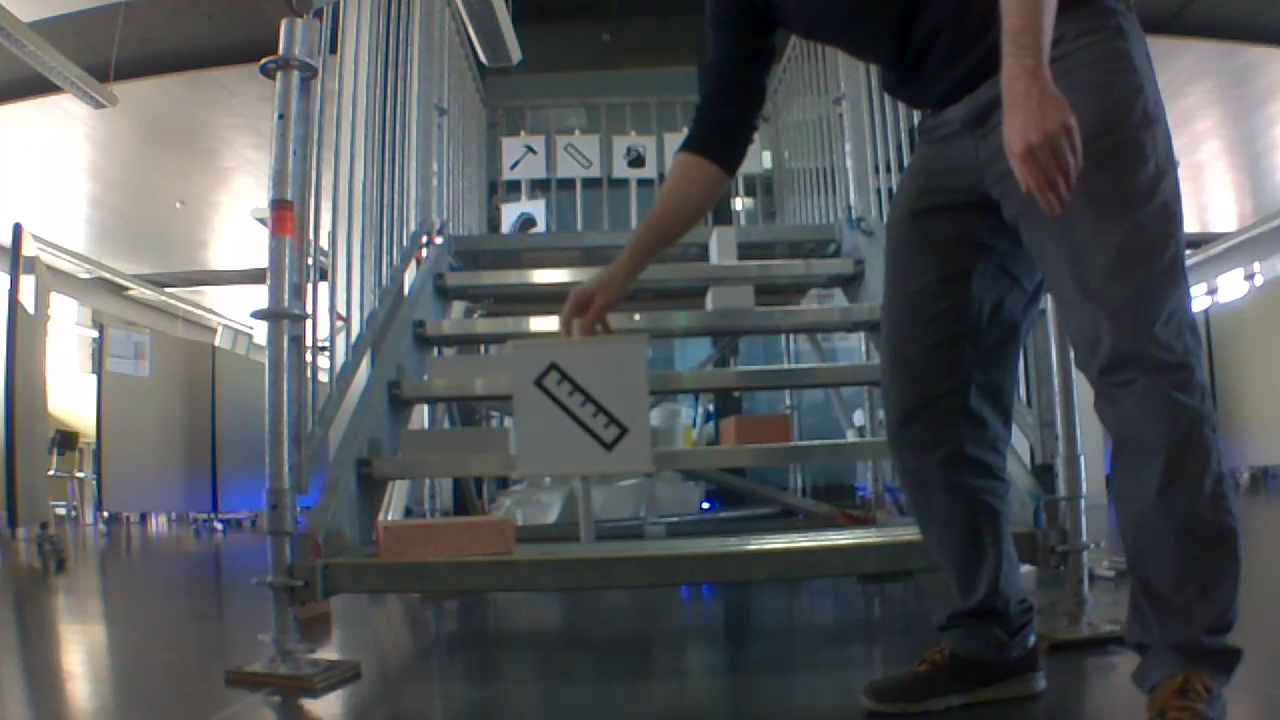brick: (376, 512, 520, 559), (402, 425, 513, 453), (724, 411, 797, 448), (428, 355, 502, 380), (701, 284, 754, 308), (713, 224, 736, 264)
bucket: (622, 142, 649, 170)
hammer: (505, 143, 539, 176)
ruler: (533, 359, 634, 456), (560, 142, 592, 176)
taco: (505, 212, 539, 234)
